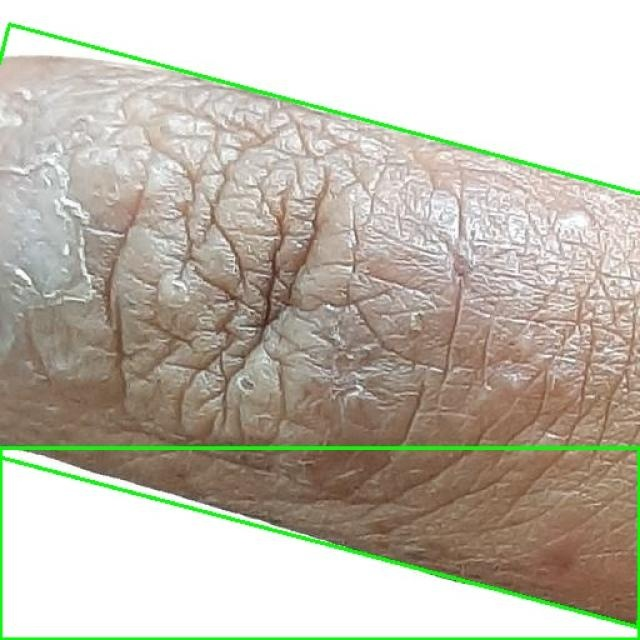Eczema: (0, 25, 640, 627), (0, 448, 639, 639)
